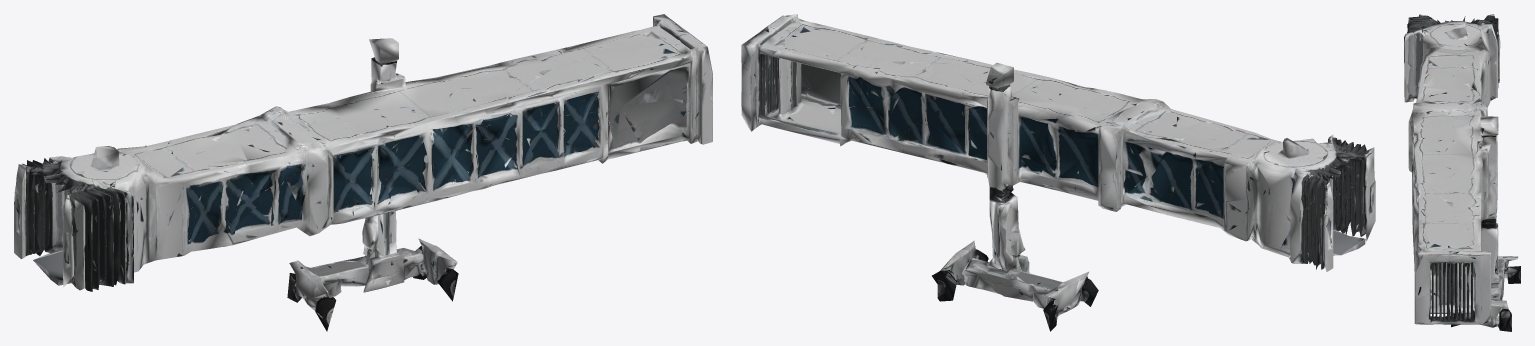
Rendered from jetbridge.glb.
3 views of the same model, side by side, from view 1: azimuth 30°, elevation 25°; view 2: azimuth 150°, elevation 25°; view 3: azimuth 270°, elevation 25° (orthographic). The views are drawn at different scales.
Bounding box in the file's own units: 1.9 × 0.7252 × 0.3945.
Materials: 1 (1 with a texture image).
